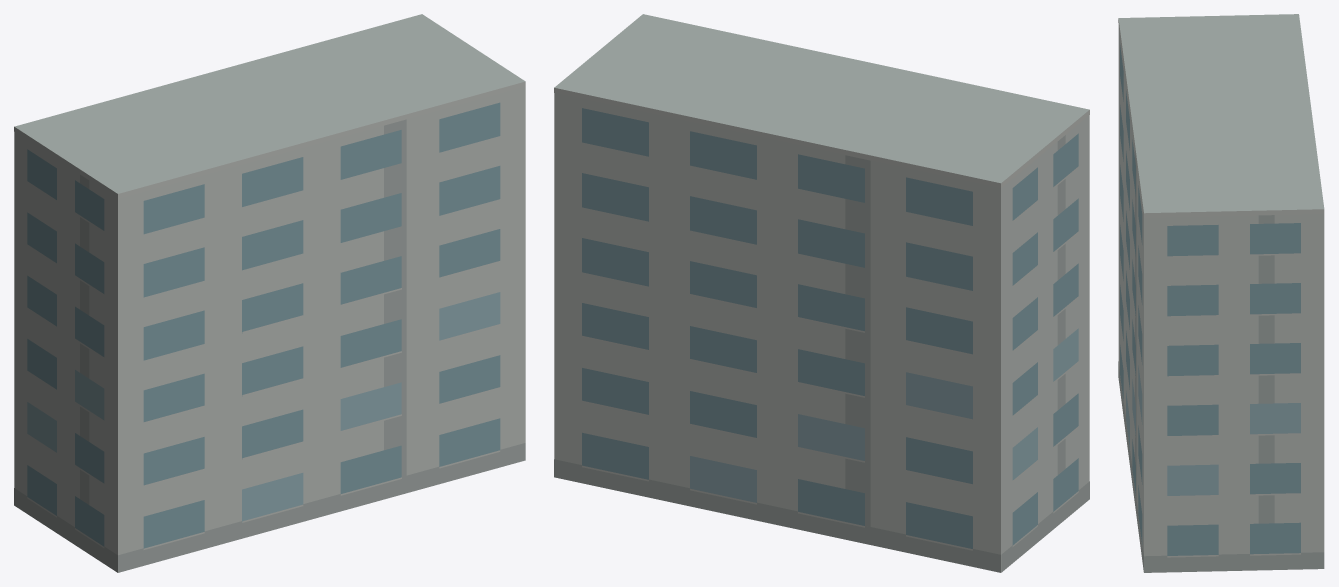
The model's file is survey-upis-32709077.glb.
3 views of the same model, side by side, from view 1: azimuth 30°, elevation 25°; view 2: azimuth 150°, elevation 25°; view 3: azimuth 270°, elevation 25° (orthographic). The views are drawn at different scales.
Parts seen in each view (by area): view 1: survey-upis-32709077.tmp; view 2: survey-upis-32709077.tmp; view 3: survey-upis-32709077.tmp.
Part boxes in pixels (x1,y1,x2,y2): survey-upis-32709077.tmp: (14, 14, 525, 572); survey-upis-32709077.tmp: (554, 14, 1089, 572); survey-upis-32709077.tmp: (1118, 14, 1324, 572).
Bounding box in the file's own units: 21.74 × 18.3 × 9.5.
